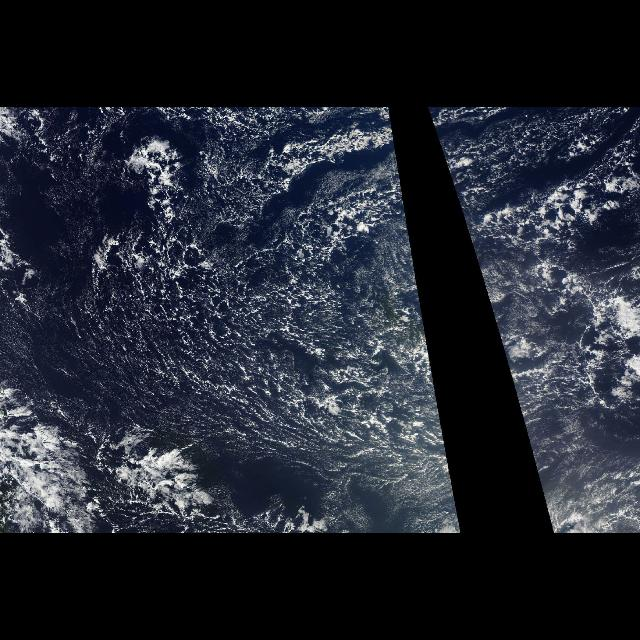Gravel: (28, 108, 446, 448), (426, 107, 640, 505)
Sugar: (1, 130, 150, 424)
